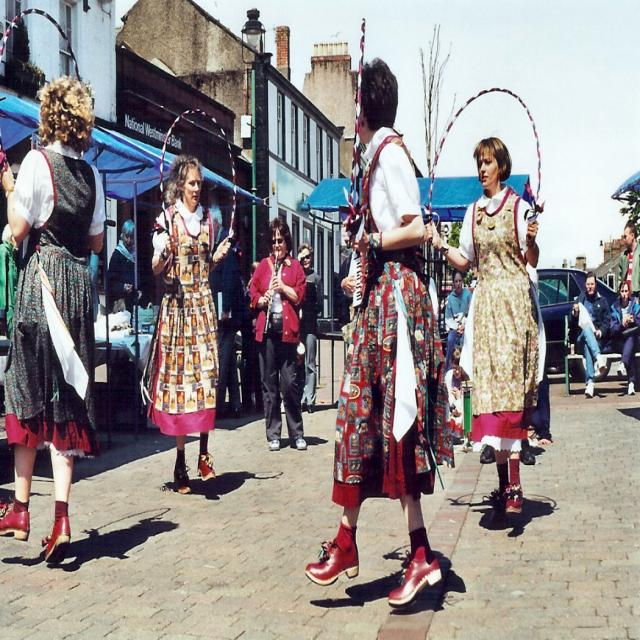clarinet: (263, 250, 282, 336)
